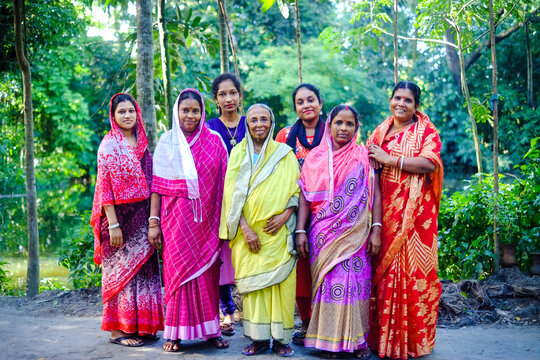women: (170, 85, 206, 142), (386, 81, 429, 124), (327, 100, 362, 152), (104, 89, 142, 136), (212, 70, 246, 118), (290, 82, 323, 125), (244, 102, 276, 145)
